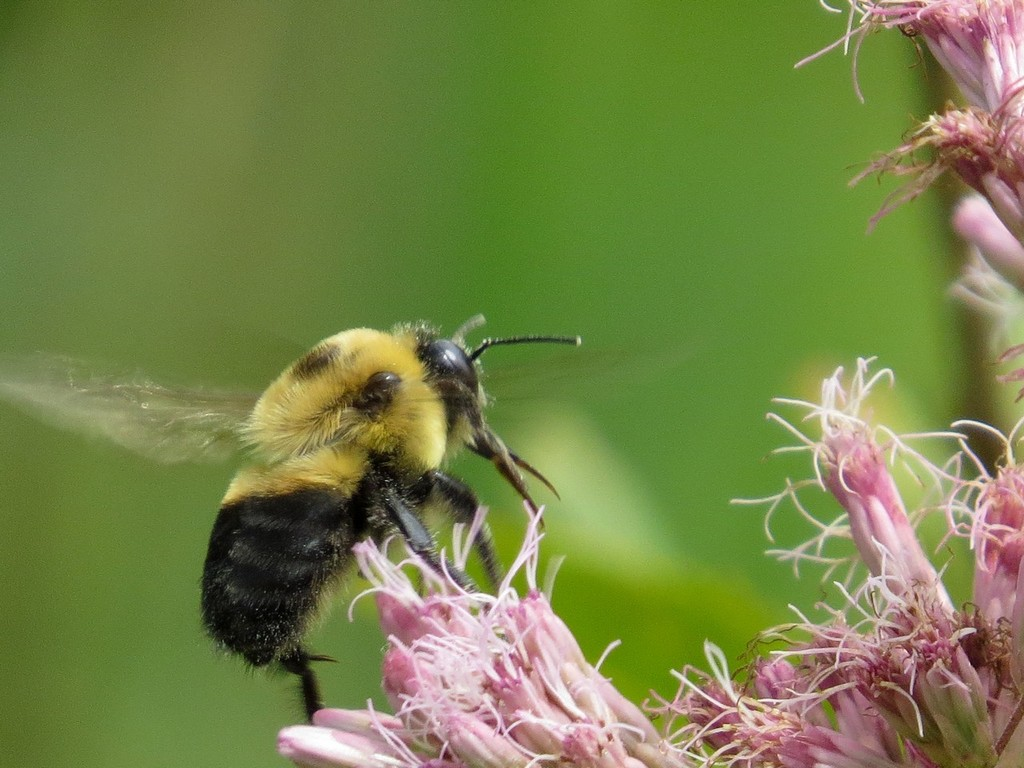bumblebee: (3, 311, 585, 722)
